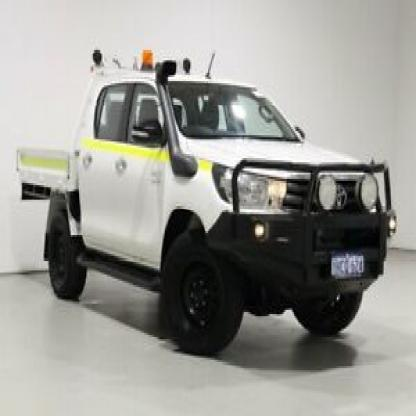light_vehicle: (11, 38, 404, 356)
